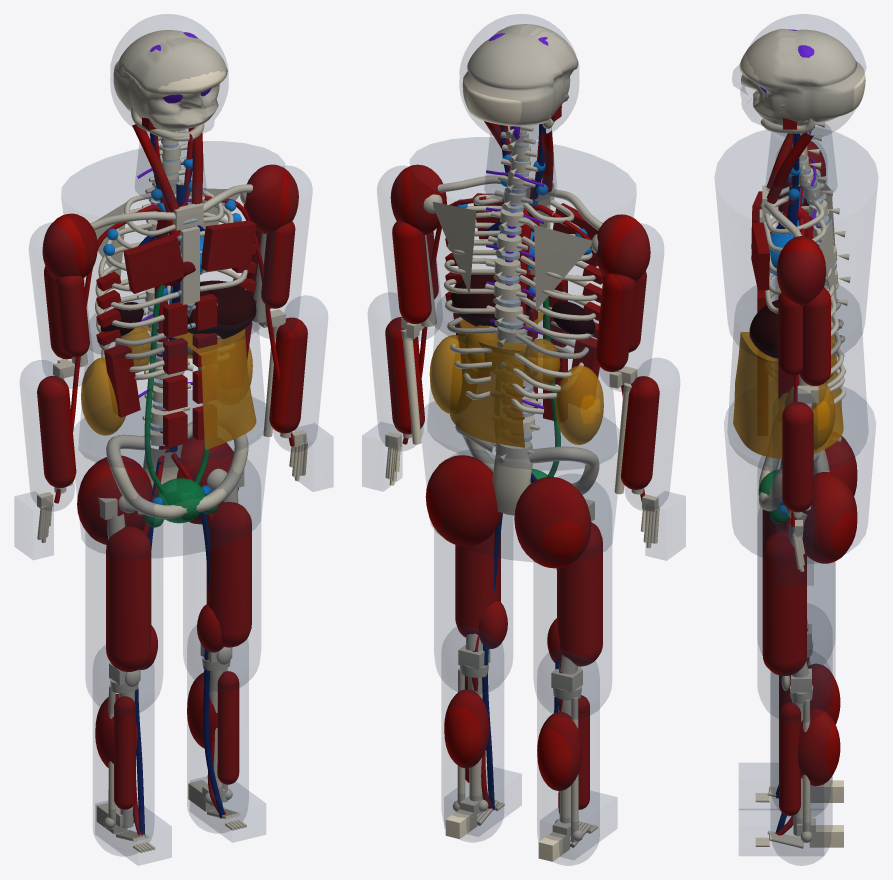
File: human-body.glb
3 renders of one model, left to right at view 1: azimuth 30°, elevation 25°; view 2: azimuth 150°, elevation 25°; view 3: azimuth 270°, elevation 25°, orthographic.
Visible parts, largest first — view 1: human_silhouette, asthi_cranium_skull, mamsa_quad_l, mamsa_quad_r, region_asthi, meda_omentum_vapa, mamsa_forearm_l, mamsa_forearm_r, mamsa_gluteus_l, mamsa_deltoid_l, mamsa_deltoid_r, mamsa_pec_l (+34 smaller); view 2: human_silhouette, asthi_cranium_skull, region_asthi, meda_omentum_vapa, mamsa_gluteus_l, mamsa_gluteus_r, mamsa_quad_l, mamsa_quad_r, mamsa_forearm_l, mamsa_tricep_r, mamsa_tricep_l, meda_lumbar_l (+28 smaller); view 3: human_silhouette, asthi_cranium_skull, mamsa_quad_r, meda_omentum_vapa, mamsa_gluteus_r, mamsa_forearm_r, region_asthi, mamsa_deltoid_r, mamsa_calf_r, mamsa_tricep_r, mamsa_tibialis_r, mamsa_bicep_r (+18 smaller).
Part boxes in pixels (x1,y1,x2,y2): human_silhouette: [15, 14, 332, 865]; asthi_cranium_skull: [113, 30, 227, 131]; mamsa_quad_l: [106, 526, 151, 671]; mamsa_quad_r: [206, 502, 251, 647]; region_asthi: [37, 129, 307, 853]; meda_omentum_vapa: [143, 325, 256, 450]; mamsa_forearm_l: [37, 376, 76, 487]; mamsa_forearm_r: [269, 317, 307, 433]; mamsa_gluteus_l: [77, 455, 152, 544]; mamsa_deltoid_l: [42, 213, 97, 278]; mamsa_deltoid_r: [243, 164, 298, 234]; mamsa_pec_l: [123, 234, 184, 293]; human_silhouette: [362, 14, 685, 865]; asthi_cranium_skull: [462, 24, 578, 126]; region_asthi: [385, 124, 659, 847]; meda_omentum_vapa: [450, 311, 543, 447]; mamsa_gluteus_l: [514, 477, 591, 568]; mamsa_gluteus_r: [425, 455, 502, 546]; mamsa_quad_l: [557, 522, 602, 666]; mamsa_quad_r: [455, 530, 500, 637]; mamsa_forearm_l: [621, 376, 659, 489]; mamsa_tricep_r: [392, 220, 431, 323]; mamsa_tricep_l: [595, 273, 635, 371]; meda_lumbar_l: [555, 365, 603, 444]; human_silhouette: [715, 14, 877, 865]; asthi_cranium_skull: [739, 28, 865, 125]; mamsa_quad_r: [762, 530, 806, 675]; meda_omentum_vapa: [733, 332, 843, 458]; mamsa_gluteus_r: [802, 472, 857, 563]; mamsa_forearm_r: [782, 402, 813, 512]; region_asthi: [755, 131, 828, 848]; mamsa_deltoid_r: [777, 236, 825, 305]; mamsa_calf_r: [797, 708, 840, 786]; mamsa_tricep_r: [799, 287, 830, 385]; mamsa_tibialis_r: [779, 702, 800, 815]; mamsa_bicep_r: [778, 292, 802, 376].
Bounding box in the file's own units: 0.6935 × 1.8 × 0.3256.
